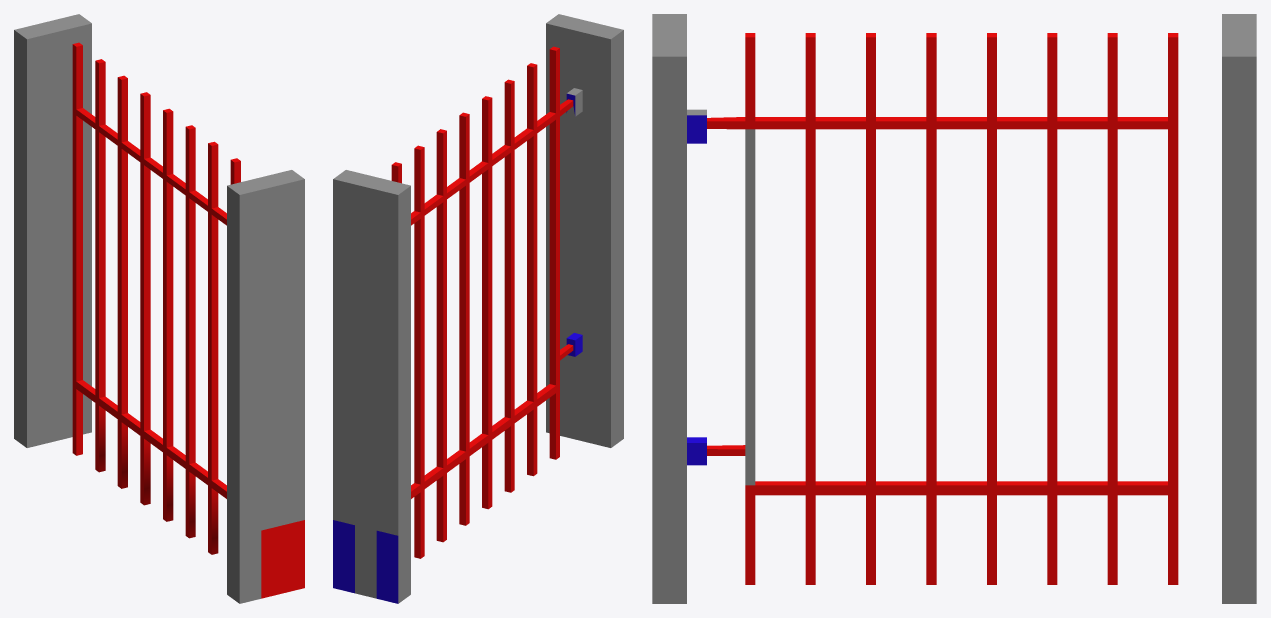
Rendered from ParkGate_00.fbx.
The picture shows the model from 3 angles, left to right: view 1: azimuth 30°, elevation 25°; view 2: azimuth 150°, elevation 25°; view 3: azimuth 270°, elevation 25°; orthographic projection. The views are drawn at different scales.
Parts seen in each view (by area): view 1: Box009; view 2: Box009; view 3: Box009.
Boxes of the visible parts, bbox=[...] form: Box009: bbox=[14, 14, 304, 603]; Box009: bbox=[333, 14, 623, 603]; Box009: bbox=[652, 14, 1256, 603].
Bounding box in the file's own units: 19.69 × 118 × 118.
